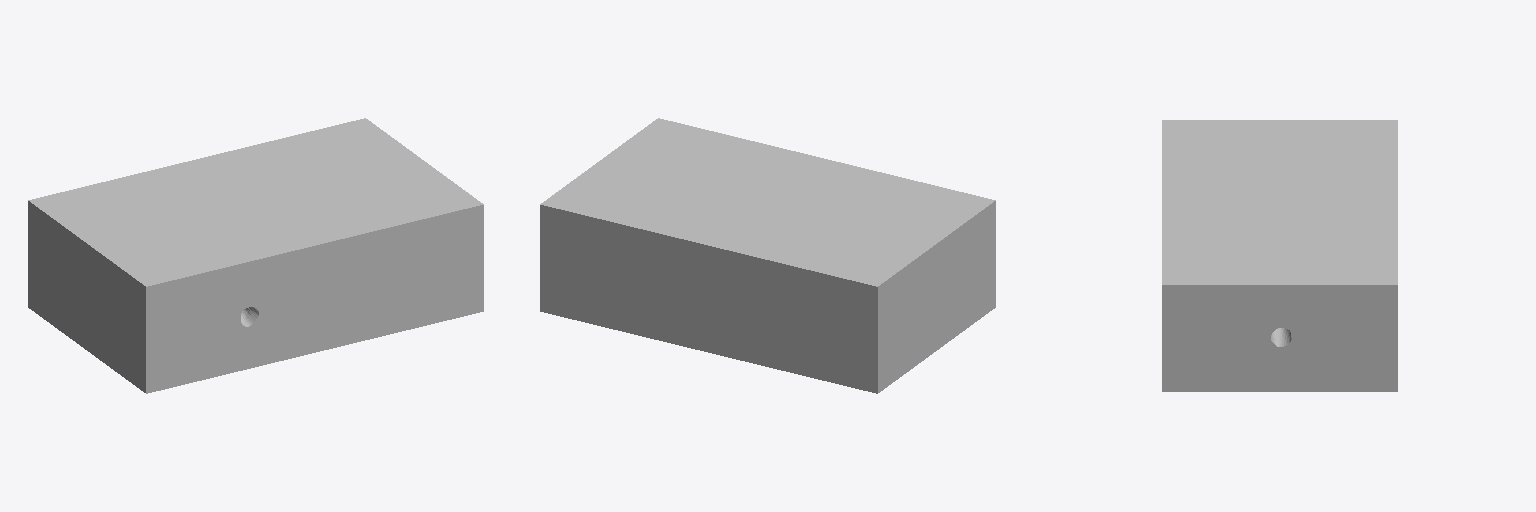
File: tunnel_block_2_smooth.obj
3 views of the same model, side by side, from view 1: azimuth 30°, elevation 25°; view 2: azimuth 150°, elevation 25°; view 3: azimuth 270°, elevation 25° (orthographic).
Parts seen in each view (by area): view 1: Box005; view 2: Box005; view 3: Box005.
Part boxes in pixels (x1,y1,x2,y2): Box005: (28, 118, 483, 393); Box005: (540, 118, 995, 393); Box005: (1162, 120, 1397, 391).
Bounding box in the file's own units: 330 × 100 × 200.